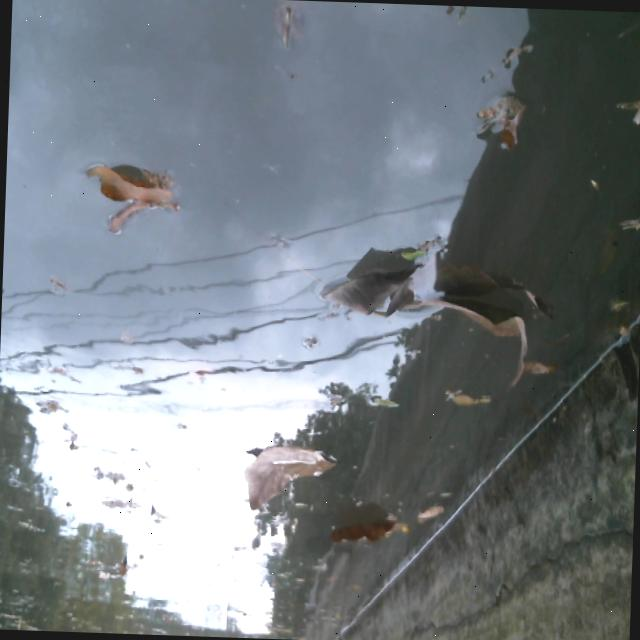Big-leaf: (312, 242, 546, 386), (229, 439, 339, 518), (321, 508, 414, 562)
Small-leaf: (71, 148, 210, 242), (474, 87, 530, 159)
